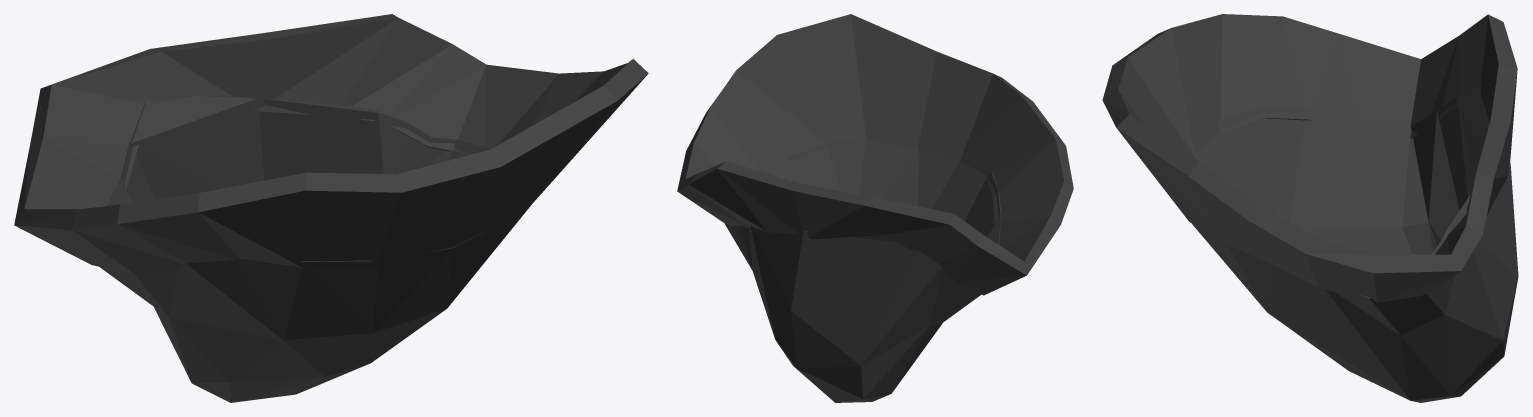
The model's file is c1_ventral_tubercle.glb.
3 views of the same model, side by side, from view 1: azimuth 30°, elevation 25°; view 2: azimuth 150°, elevation 25°; view 3: azimuth 270°, elevation 25° (orthographic). The views are drawn at different scales.
Visible parts, largest first — view 1: c1_ventral_tubercle; view 2: c1_ventral_tubercle; view 3: c1_ventral_tubercle.
Boxes of the visible parts, x1,y1,x2,y2 form: c1_ventral_tubercle: [14, 14, 648, 402]; c1_ventral_tubercle: [677, 14, 1073, 402]; c1_ventral_tubercle: [1102, 14, 1518, 402].
Size of the model in its own units: 6.54 by 4.59 by 4.9.
1 material, 1 textured.
